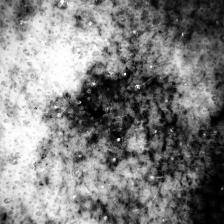Benign Marking or Mole: (57, 51, 181, 179)
